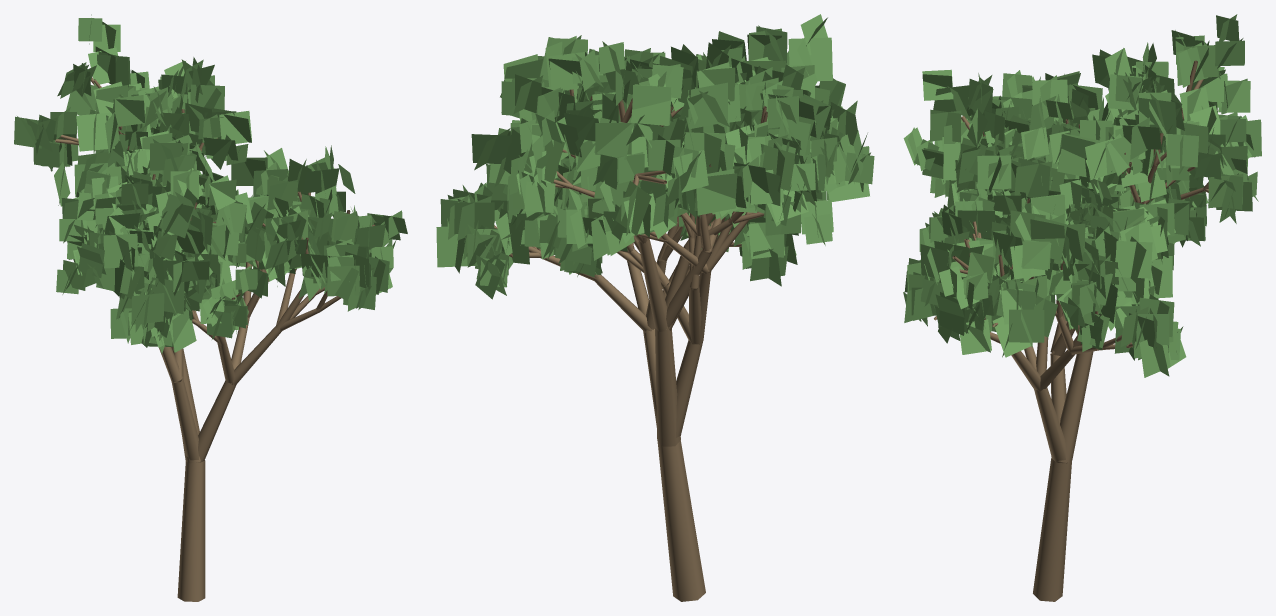
The model's file is tree_b.glb.
The picture shows the model from 3 angles, left to right: view 1: azimuth 30°, elevation 25°; view 2: azimuth 150°, elevation 25°; view 3: azimuth 270°, elevation 25°; orthographic projection. The views are drawn at different scales.
Parts seen in each view (by area): view 1: tree_b_leaves, tree_b_wood; view 2: tree_b_leaves, tree_b_wood; view 3: tree_b_leaves, tree_b_wood.
Part boxes in pixels (x1,y1,x2,y2): tree_b_leaves: (14,14,407,353); tree_b_wood: (55,77,375,601); tree_b_leaves: (436,14,874,299); tree_b_wood: (494,89,767,601); tree_b_leaves: (903,14,1261,377); tree_b_wood: (934,60,1208,601).
Bounding box in the file's own units: 9.58 × 15.92 × 9.1.
